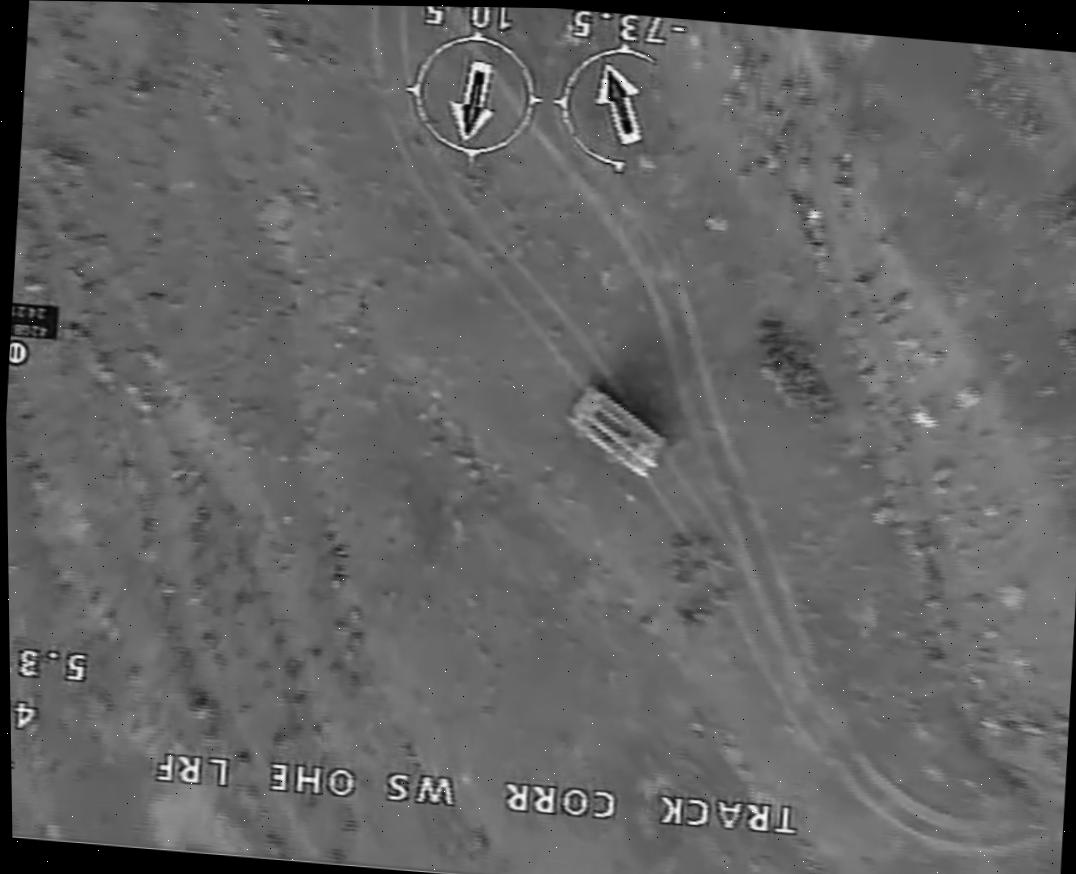armored_car: (558, 375, 680, 484)
